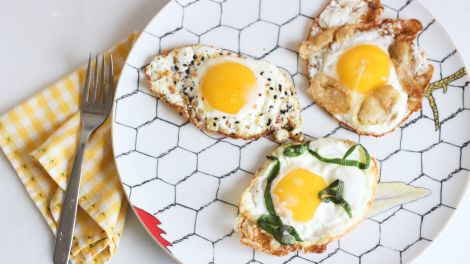fried egg: (173, 52, 289, 135), (254, 157, 364, 226), (325, 22, 397, 121)
